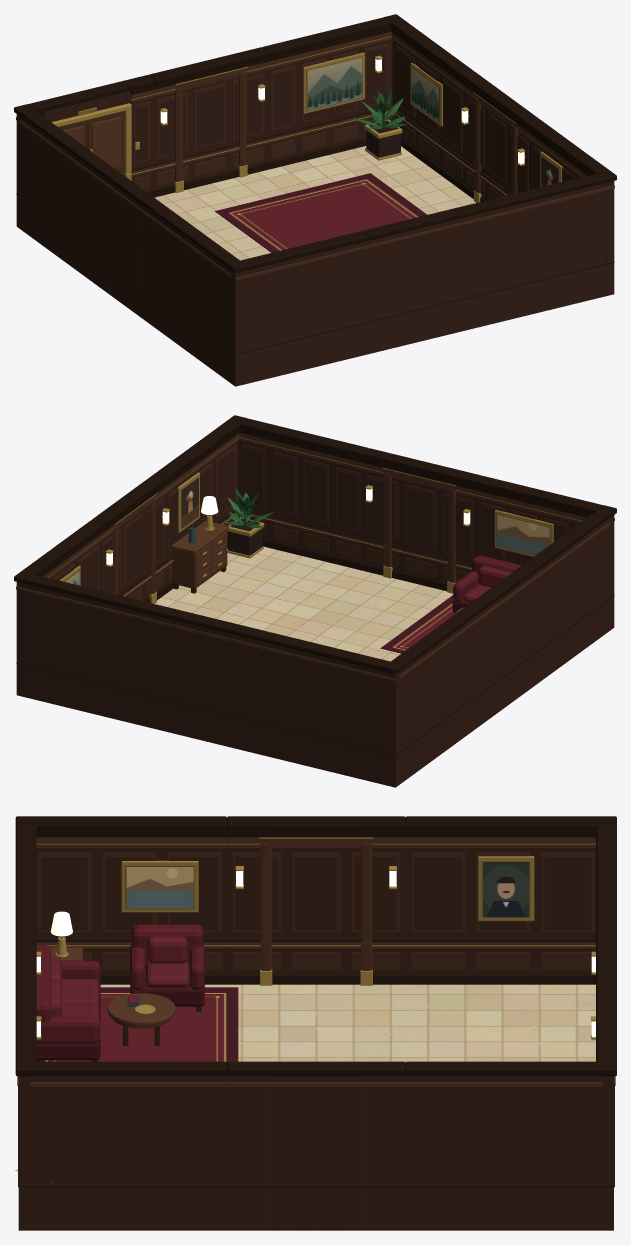
File: lobby.glb
3 renders of one model, top to bottom at view 1: azimuth 30°, elevation 25°; view 2: azimuth 150°, elevation 25°; view 3: azimuth 270°, elevation 25°, orthographic. The views are drawn at different scales.
Visible parts, largest first — view 1: floor, W_south_A_up, W_south_D_up, W_north_D_up, W_north_A_up, W_west_D_up, W_west_A_up, W_north_F_up, W_east_A_up, W_south_F_up, W_south_A_lo, W_south_D_lo (+28 smaller); view 2: floor, W_north_A_up, W_north_D_up, W_south_D_up, W_south_A_up, W_west_A_up, W_west_D_up, W_south_F_up, static, W_north_F_up, W_east_D_up, W_west_F_up (+22 smaller); view 3: floor, W_east_A_up, W_east_D_up, W_west_A_up, W_west_D_up, W_west_F_up, static, W_east_F_up, W_east_A_lo, W_east_D_lo, W_west_A_lo, W_east_B_up (+21 smaller).
Boxes of the visible parts, x1,y1,x2,y2 form: floor: (154, 146, 475, 260); W_south_A_up: (227, 231, 368, 353); W_south_D_up: (476, 173, 616, 293); W_north_D_up: (262, 17, 392, 136); W_north_A_up: (14, 75, 155, 196); W_west_D_up: (157, 209, 246, 350); W_west_A_up: (14, 104, 103, 249); W_north_F_up: (151, 48, 268, 163); W_east_A_up: (384, 14, 473, 158); W_south_F_up: (365, 203, 481, 320); W_south_A_lo: (231, 321, 368, 386); W_south_D_lo: (481, 261, 614, 326); floor: (155, 546, 454, 661); W_north_A_up: (262, 632, 403, 754); W_north_D_up: (14, 574, 154, 694); W_south_D_up: (238, 418, 368, 537); W_south_A_up: (475, 476, 616, 597); W_west_A_up: (384, 610, 473, 751); W_west_D_up: (527, 505, 616, 650); W_south_F_up: (363, 448, 480, 563); static: (171, 487, 521, 746); W_north_F_up: (149, 605, 265, 721); W_east_D_up: (157, 415, 246, 559); W_west_F_up: (462, 562, 538, 697); floor: (41, 984, 595, 1062); W_east_A_up: (405, 1061, 616, 1185); W_east_D_up: (15, 1061, 226, 1185); W_west_A_up: (405, 816, 616, 939); W_west_D_up: (15, 816, 226, 939); W_west_F_up: (227, 816, 405, 939); static: (15, 911, 346, 1230); W_east_F_up: (227, 1061, 405, 1185); W_east_A_lo: (405, 1186, 602, 1230); W_east_D_lo: (30, 1186, 226, 1230); W_west_A_lo: (405, 939, 595, 984); W_east_B_up: (271, 1061, 405, 1185).
Size of the model in its own units: 8.11 by 2.4 by 8.1.
5 materials, 3 textured.
